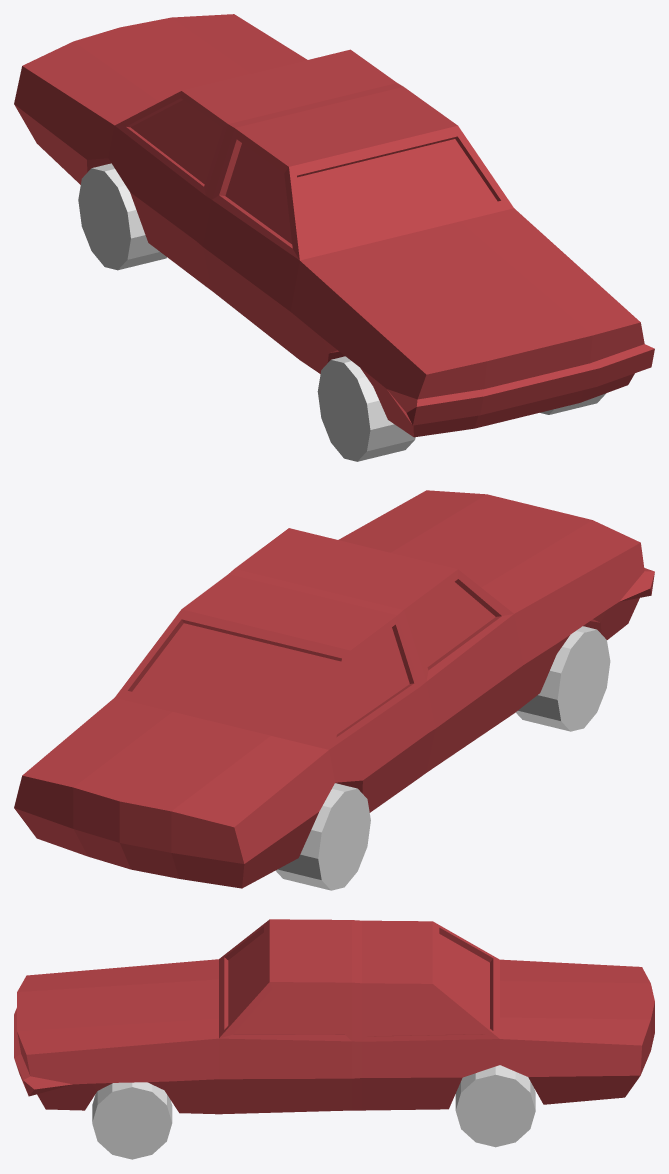
Rendered from Carv1.glb.
3 renders of one model, top to bottom at view 1: azimuth 30°, elevation 25°; view 2: azimuth 150°, elevation 25°; view 3: azimuth 270°, elevation 25°, orthographic. The views are drawn at different scales.
Visible parts, largest first — view 1: Cube, Cylinder.001, Cylinder; view 2: Cube, Cylinder.001, Cylinder; view 3: Cube, Cylinder, Cylinder.001.
Boxes of the visible parts, bbox=[...] form: Cube: bbox=[14, 14, 654, 437]; Cylinder.001: bbox=[317, 356, 606, 461]; Cylinder: bbox=[78, 163, 166, 270]; Cube: bbox=[14, 490, 654, 888]; Cylinder.001: bbox=[516, 626, 610, 731]; Cylinder: bbox=[275, 783, 370, 890]; Cube: bbox=[14, 919, 654, 1114]; Cylinder: bbox=[455, 1065, 535, 1147]; Cylinder.001: bbox=[92, 1082, 172, 1159].
Bounding box in the file's own units: 1.5 × 1.27 × 4.5.
